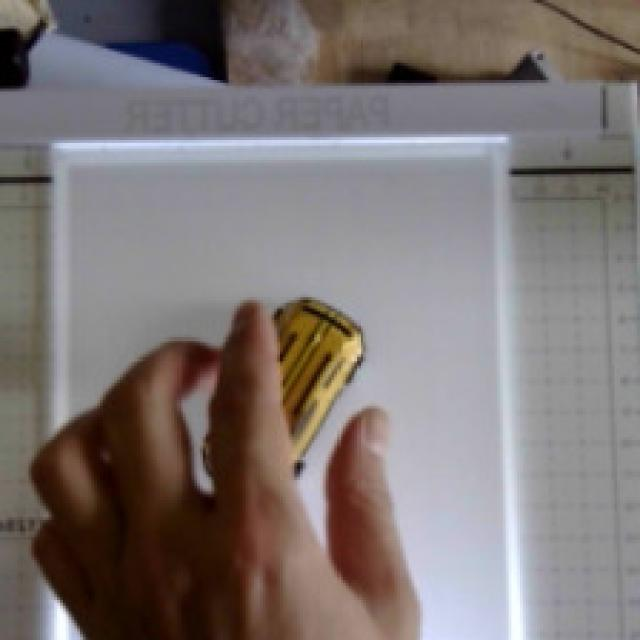Yellow Car: (184, 273, 383, 500)
